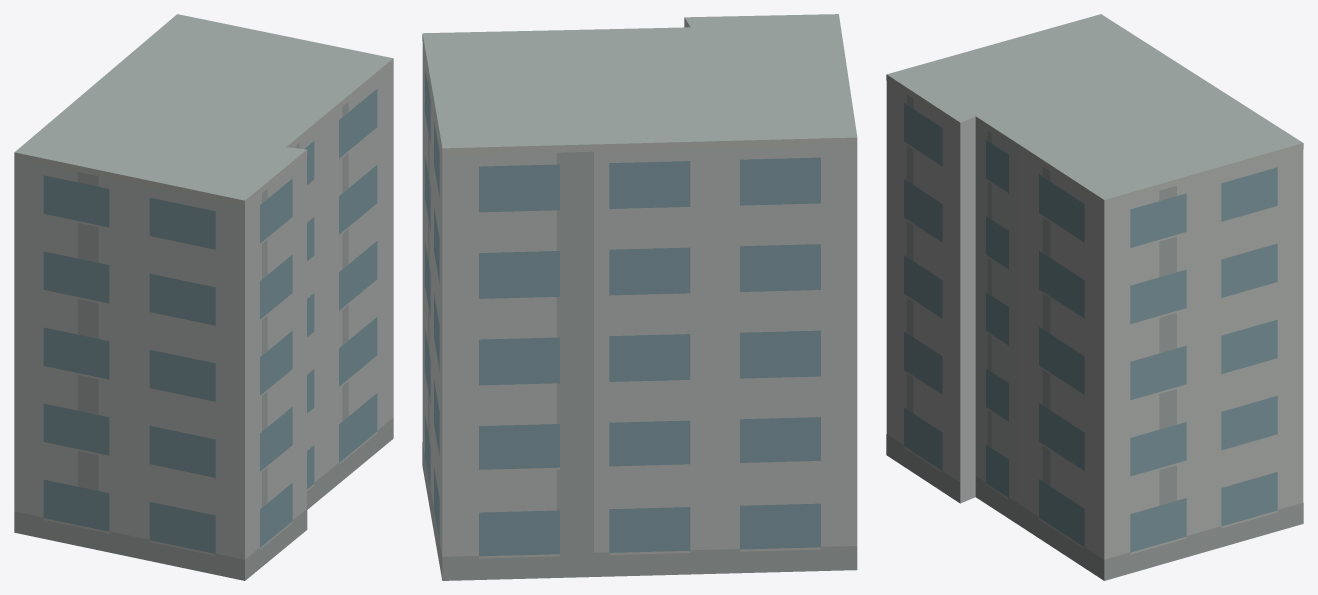
The model's file is survey-upis-32962830.glb.
The picture shows the model from 3 angles, left to right: view 1: azimuth 30°, elevation 25°; view 2: azimuth 150°, elevation 25°; view 3: azimuth 270°, elevation 25°; orthographic projection. The views are drawn at different scales.
Parts seen in each view (by area): view 1: survey-upis-32962830.tmp; view 2: survey-upis-32962830.tmp; view 3: survey-upis-32962830.tmp.
Part boxes in pixels (x1=…): survey-upis-32962830.tmp: x1=14, y1=14, x2=393, y2=580; survey-upis-32962830.tmp: x1=422, y1=14, x2=857, y2=580; survey-upis-32962830.tmp: x1=886, y1=14, x2=1303, y2=580.
Bounding box in the file's own units: 15.1 × 14.4 × 14.29.
